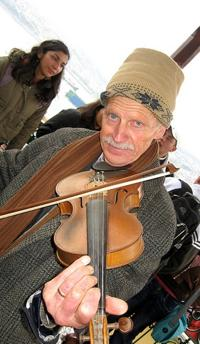person: (1, 47, 185, 344)
